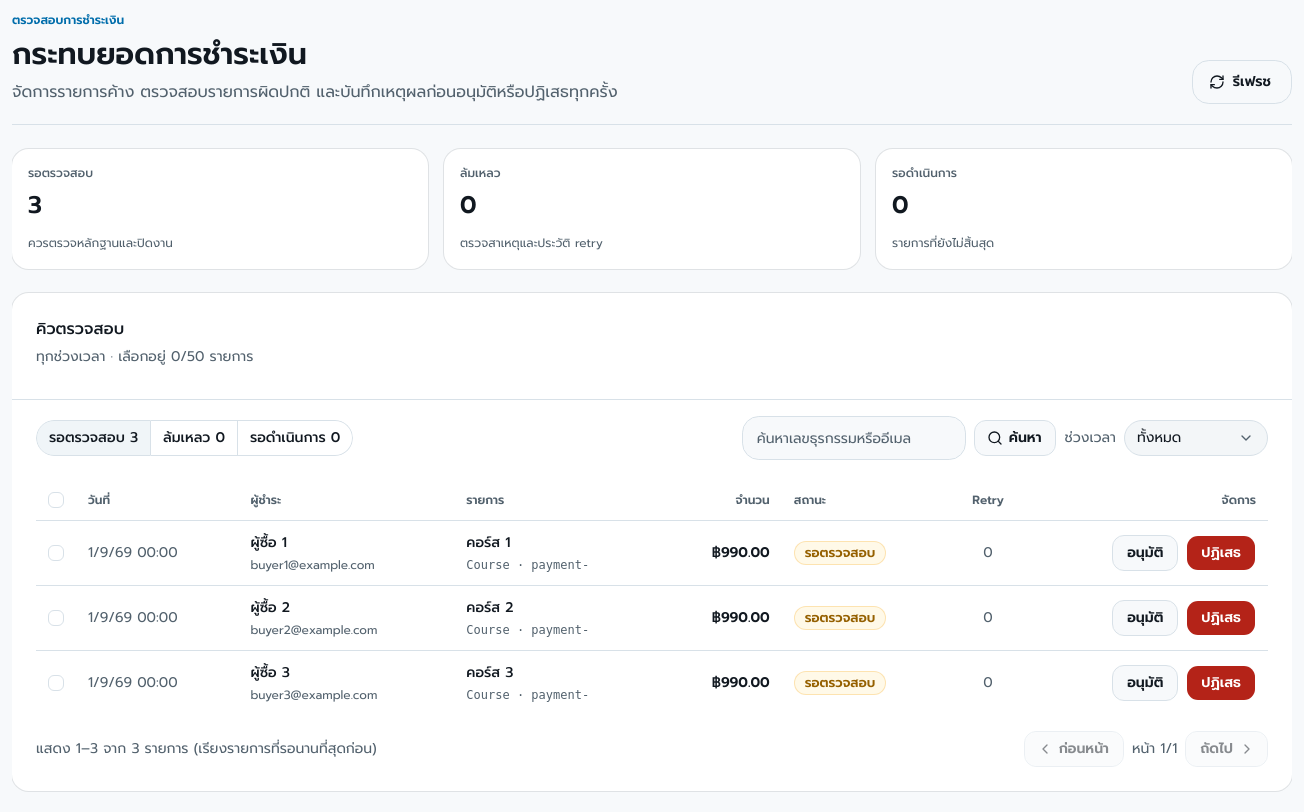
Test: Admin reconciliation queue states › selects every row when there are 50 or fewer, and clears the selection on refresh
Check: the text "คอร์ส 1" is shown, box [466,532,511,552]
Click the checkbox named "เลือกทุกรายการ" at (56, 500), box [48,492,64,508]
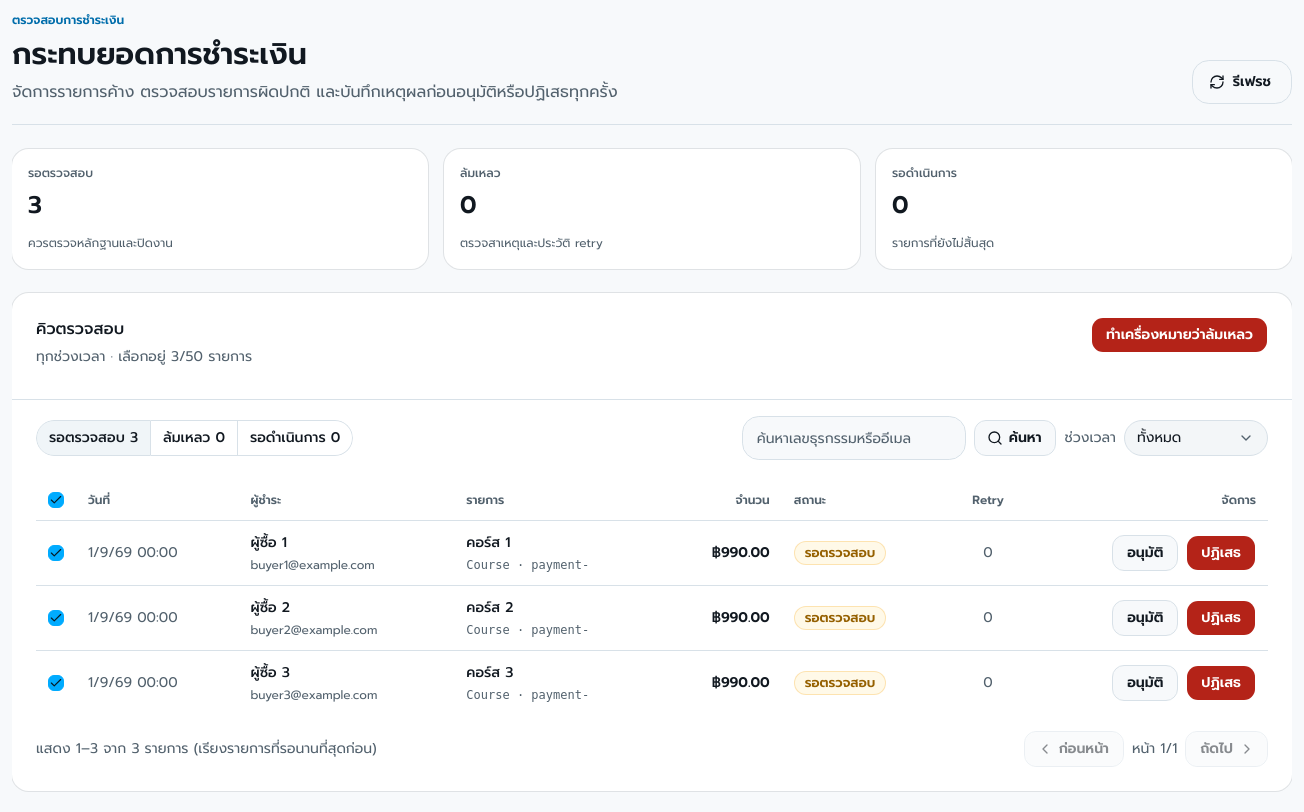
Check: the text "ทุกช่วงเวลา · เลือกอยู่ 3/50 รายการ" is shown, box [36,346,252,367]
Click the button "รีเฟรช" at (1242, 82), box [1192,60,1292,104]
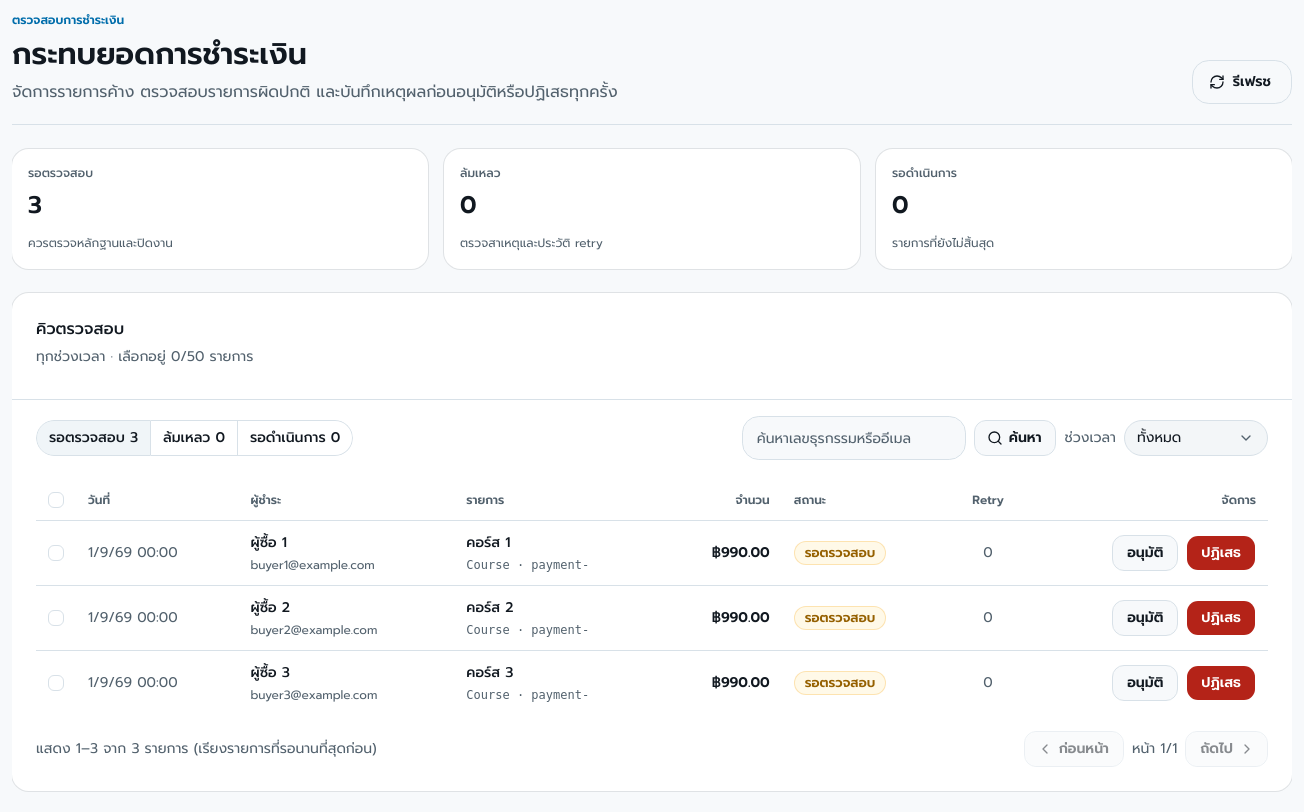
Check: the text "ทุกช่วงเวลา · เลือกอยู่ 0/50 รายการ" is shown, box [36,346,253,367]
